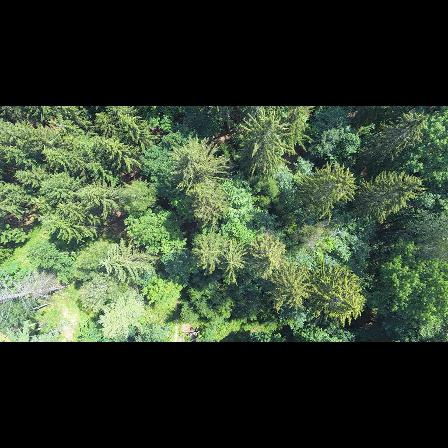Dead: (0, 272, 66, 320)
